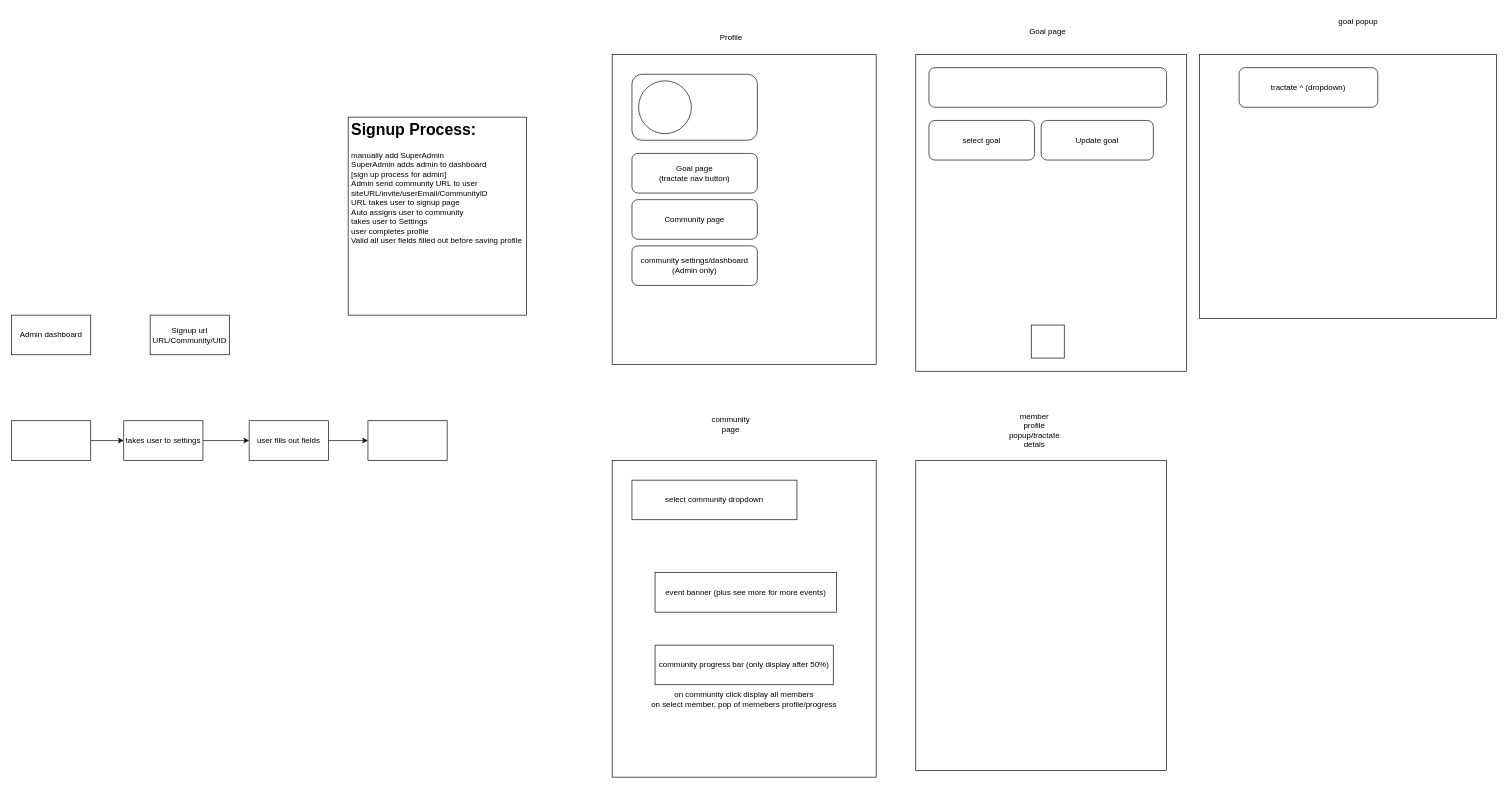
Some shapes in this 1508 by 789 pixel diagram are drawn without their labels. Each missing label, with the box of its shape:
+ (update progress): (1031, 324, 1064, 358)
select and update goals here: (1199, 54, 1497, 318)
Signup: (11, 420, 91, 460)
User (onclick to settings): (631, 74, 757, 140)
User progress (tractate selected, prog bar): (928, 67, 1167, 107)
users home/dash page: (367, 420, 447, 460)
